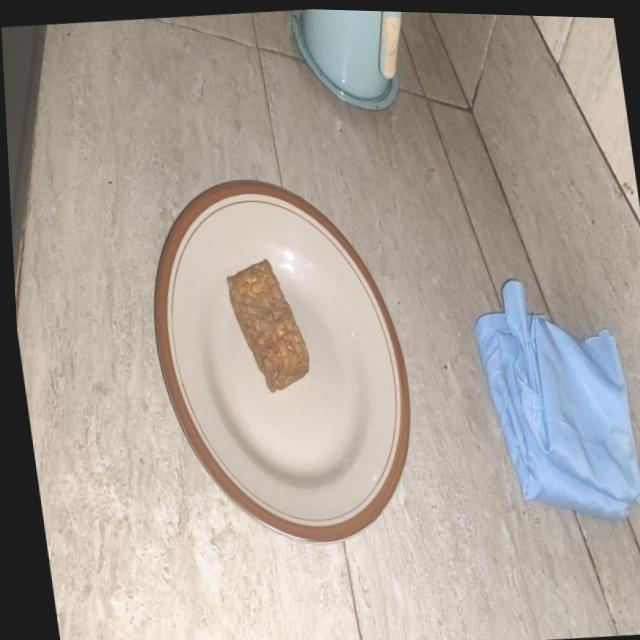tempe_goreng: (226, 259, 308, 392)
